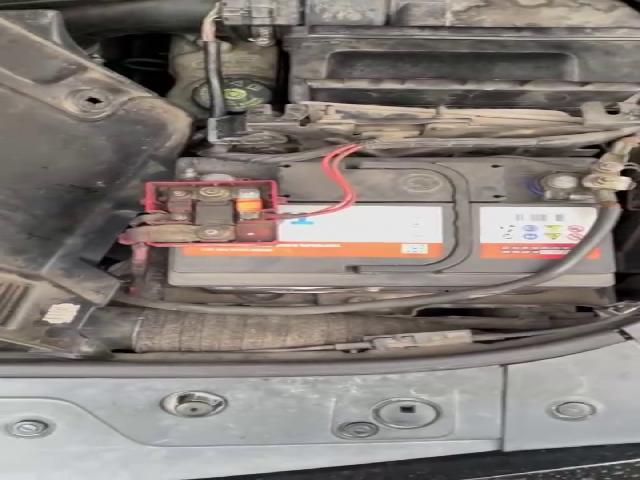accumulator: (140, 152, 610, 286)
